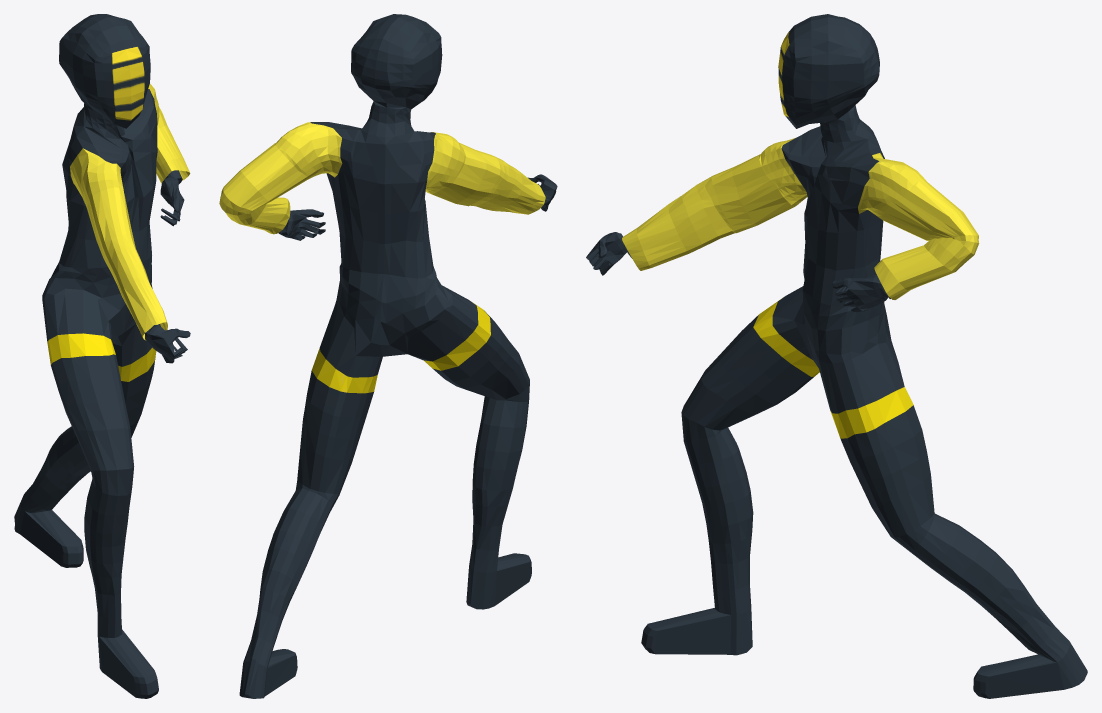
Rendered from Sentry_Stun_000001.obj.
The picture shows the model from 3 angles, left to right: view 1: azimuth 30°, elevation 25°; view 2: azimuth 150°, elevation 25°; view 3: azimuth 270°, elevation 25°; orthographic projection. The views are drawn at different scales.
Parts seen in each view (by area): view 1: Cube; view 2: Cube; view 3: Cube.
Boxes of the visible parts, x1,y1,x2,y2 form: Cube: (14,14,190,698); Cube: (219,14,557,698); Cube: (586,14,1087,698).
Size of the model in its own units: 1.17 by 3.61 by 2.5.
